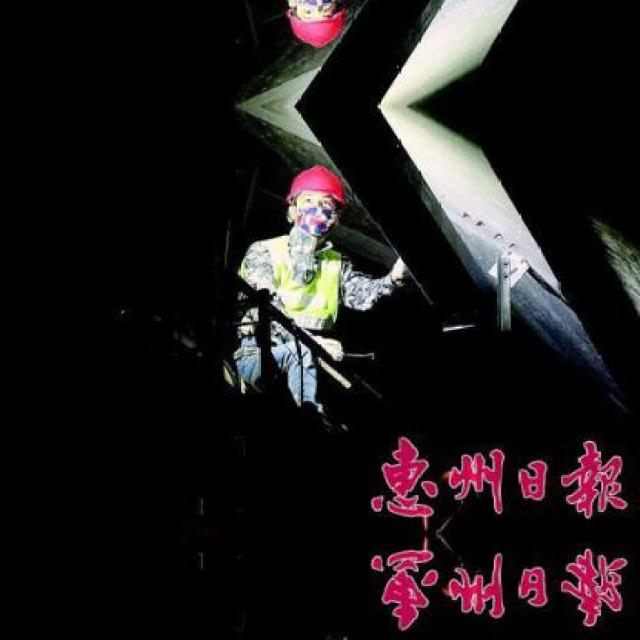helmet: (282, 158, 358, 241), (282, 0, 358, 56)
